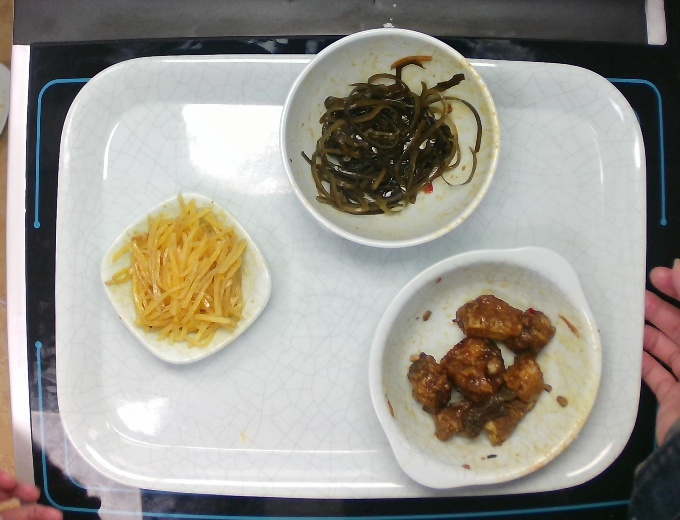JYsf-Fan_Wan: (276, 25, 502, 252)
JYsf-Shuang_Er_Wan: (364, 242, 605, 492)
JYsf-Si_Fang_Die: (99, 190, 275, 368)
